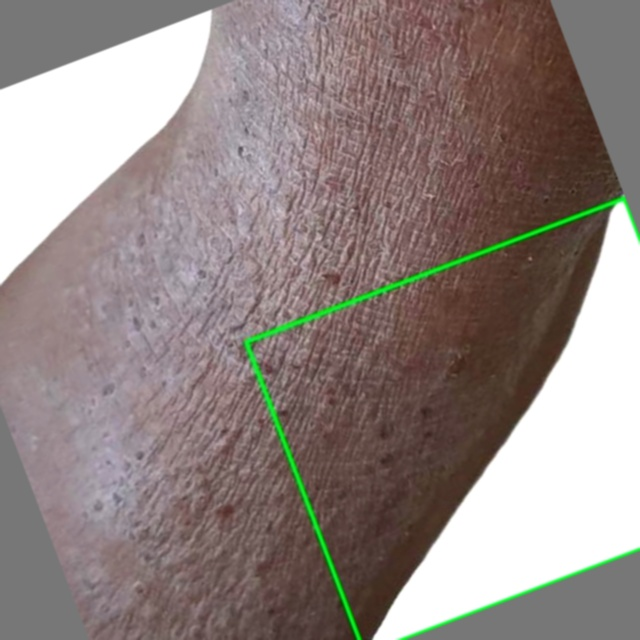Contact Dermatitis: (246, 198, 639, 639)
